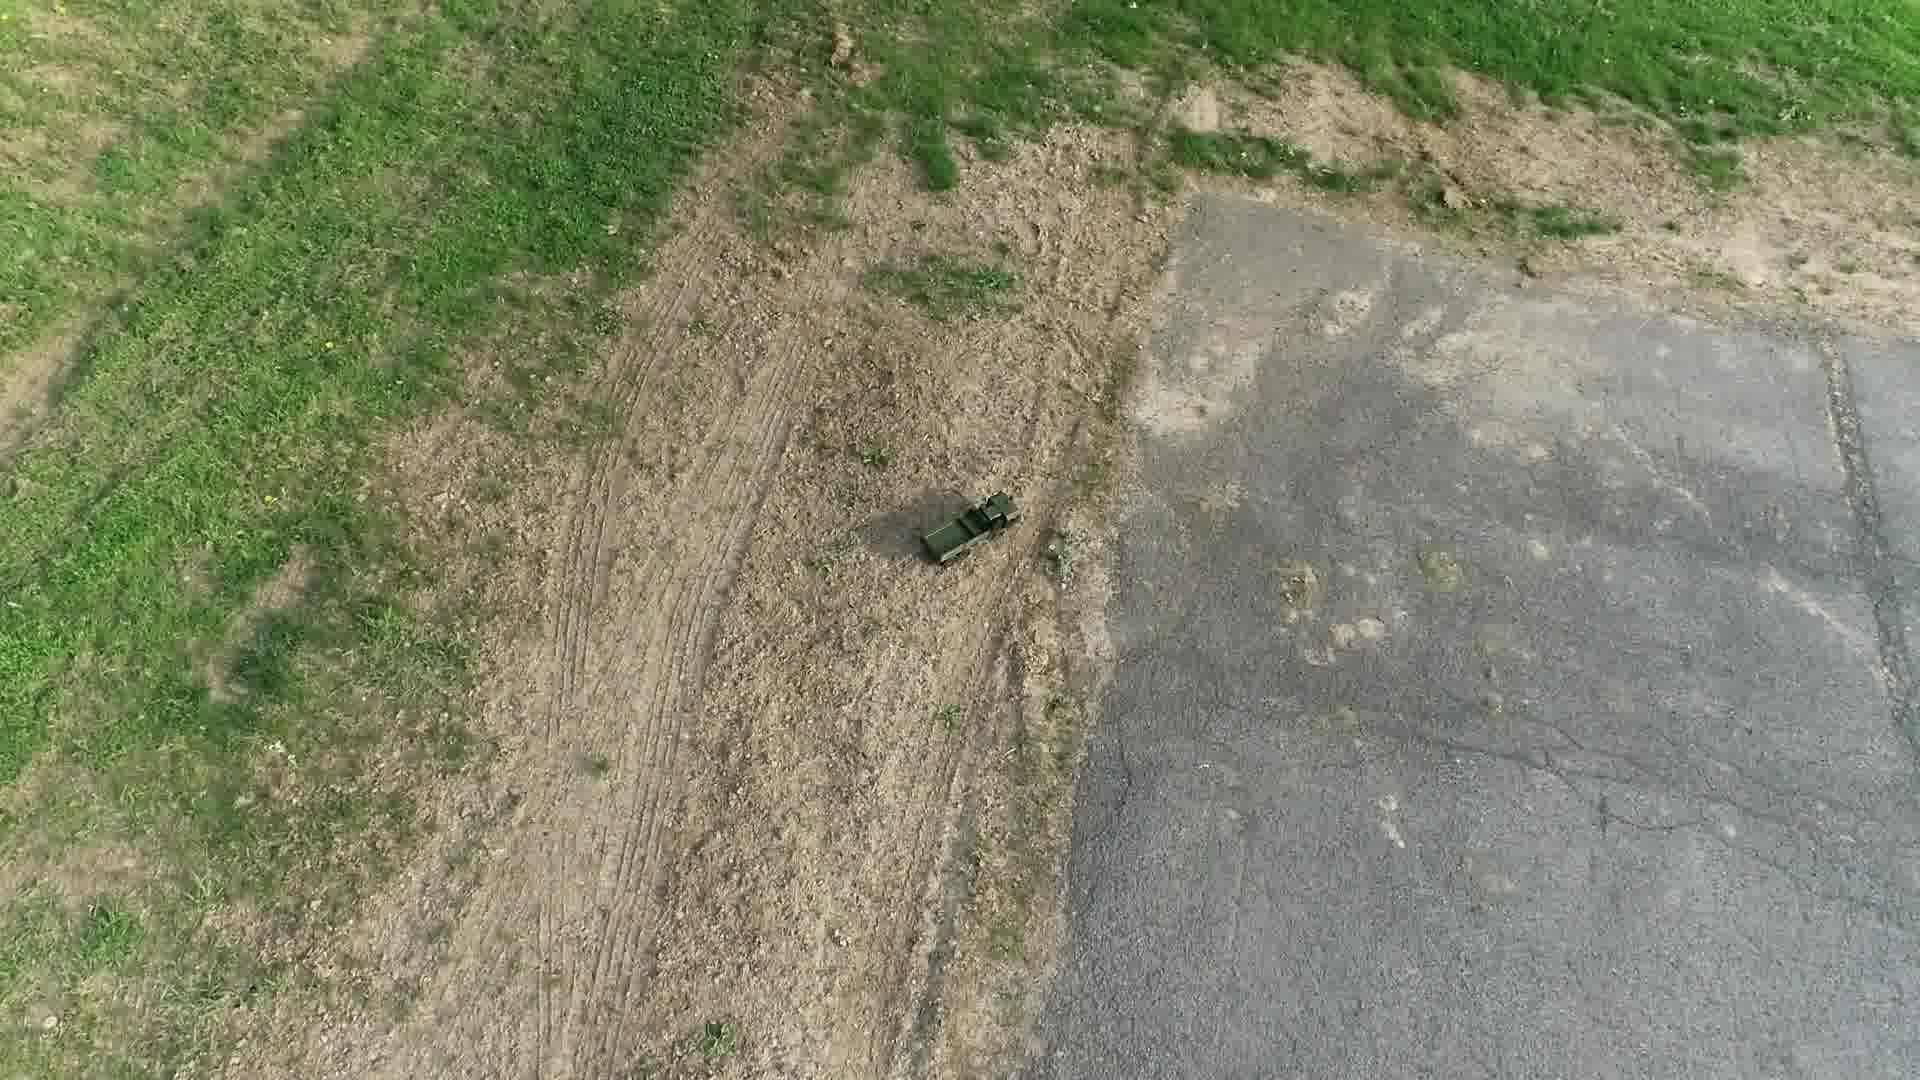transporter9: (915, 488, 1029, 574)
